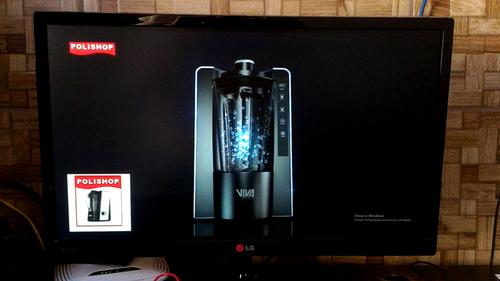Polishop #1: (67, 172, 131, 230)
